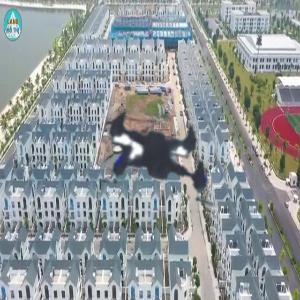drone: (47, 47, 267, 267)
